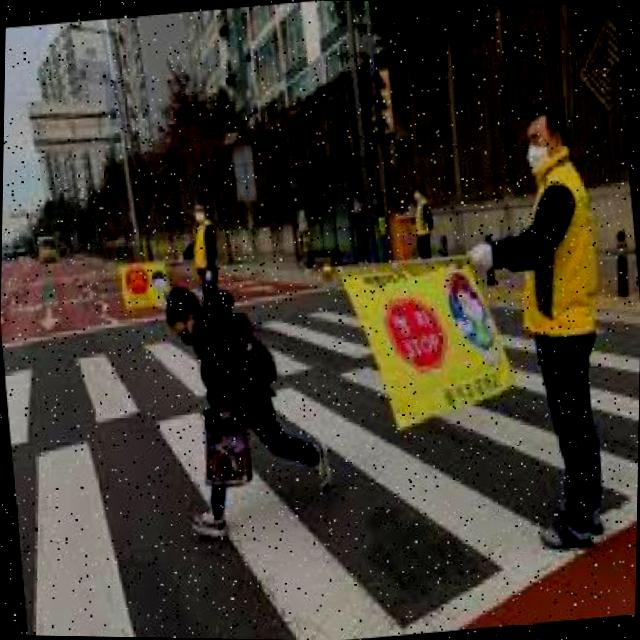Person: (446, 98, 625, 558), (156, 268, 338, 540), (169, 196, 222, 289), (404, 176, 438, 258)
